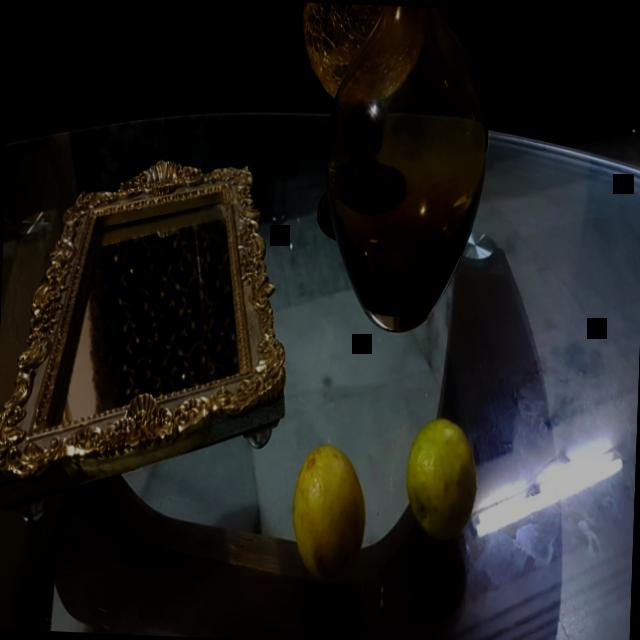lemon: (278, 436, 377, 589), (397, 410, 493, 553)
